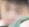without_mask: (1, 1, 29, 27)
